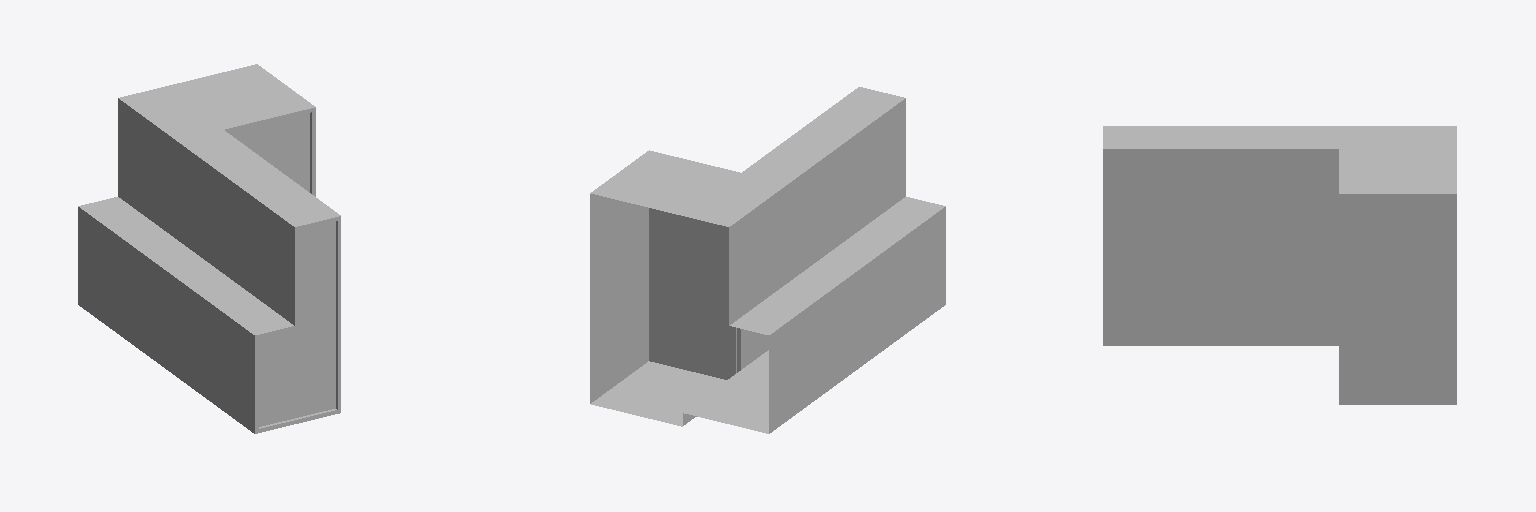
Rendered from tower3.obj.
The picture shows the model from 3 angles: view 1: azimuth 30°, elevation 25°; view 2: azimuth 150°, elevation 25°; view 3: azimuth 270°, elevation 25°; orthographic projection.
Parts seen in each view (by area): view 1: tower3; view 2: tower3; view 3: tower3.
Boxes of the visible parts, <box> form: tower3: <box>78,64,340,433</box>; tower3: <box>590,87,945,433</box>; tower3: <box>1103,126,1456,404</box>.
Bounding box in the file's own units: 33.36 × 37.52 × 57.01.